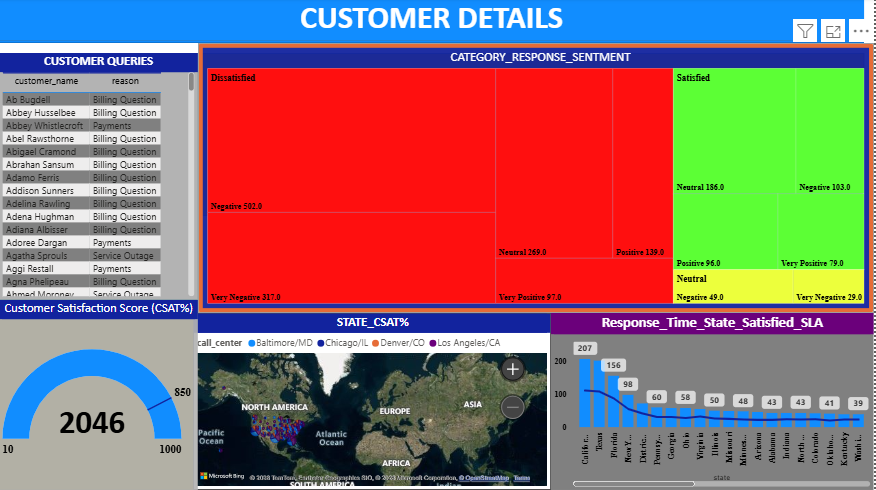

Layout of this report page (visuals, bound fields, positions):
{"tool":"powerbi","page":{"name":"CUSTOMER","canvas":[1280,720],"ordinal":1},"visuals":[{"type":"shape","box":[291.4,461.2,502.3,259.2],"z":0},{"type":"shape","box":[0,441.6,291.4,278.9],"z":1000},{"type":"shape","box":[291,80,975,238],"z":2000},{"type":"shape","box":[0,80,291,361],"z":3000},{"type":"shape","title":"CUSTOMER DETAILS","box":[0,0,1265.9,65.9],"z":4000},{"type":"map","title":"STATE_CSAT%","fields":{"Size":["Sum(CSAT_DATA.CSAT %)"],"Category":["CSAT_DATA.state"],"Series":["CSAT_DATA.call_center"]},"box":[284.2,461.2,523.8,259.2],"z":5000},{"type":"gauge","title":"Customer Satisfaction Score (CSAT%)","fields":{"Y":["Sum(CSAT_DATA.csat_score)"],"TargetValue":["Sum(CSAT_DATA.TARGET_CSAT)"]},"box":[0,441.6,291.4,278.9],"z":6000},{"type":"treemap","title":"CATEGORY_RESPONSE_SENTMENT","fields":{"Group":["CSAT_DATA.CSAT_Category"],"Values":["Sum(CSAT_DATA.Response_Score)"],"Details":["CSAT_DATA.sentiment"]},"box":[291.4,66.1,988.6,395.1],"z":7000},{"type":"tableEx","title":"CUSTOMER QUERIES","fields":{"Values":["CSAT_DATA.customer_name","CSAT_DATA.reason"]},"box":[0,79.9,291.1,361],"z":8000},{"type":"lineStackedColumnComboChart","title":"Response_Time_State_Satisfied_SLA","fields":{"Category":["CSAT_DATA.state"],"Y":["Sum(CSAT_DATA.Response_Score)"],"Y2":["CountNonNull(CSAT_DATA.response_time)"]},"box":[808,461,472,259],"z":9000}]}

Visuals, with their boxes in screenshot pixels (x1, y1, x2, y2), scaled from the page's 1280x720 canvas onto the 876x490 screenshot:
shape: crop(199, 314, 543, 489)
shape: crop(0, 301, 199, 489)
shape: crop(199, 54, 866, 216)
shape: crop(0, 54, 199, 300)
"CUSTOMER DETAILS" shape: crop(0, 0, 866, 45)
"STATE_CSAT%" map: crop(194, 314, 553, 489)
"Customer Satisfaction Score (CSAT%)" gauge: crop(0, 301, 199, 489)
"CATEGORY_RESPONSE_SENTMENT" treemap: crop(199, 45, 875, 314)
"CUSTOMER QUERIES" tableEx: crop(0, 54, 199, 300)
"Response_Time_State_Satisfied_SLA" lineStackedColumnComboChart: crop(553, 314, 875, 489)
